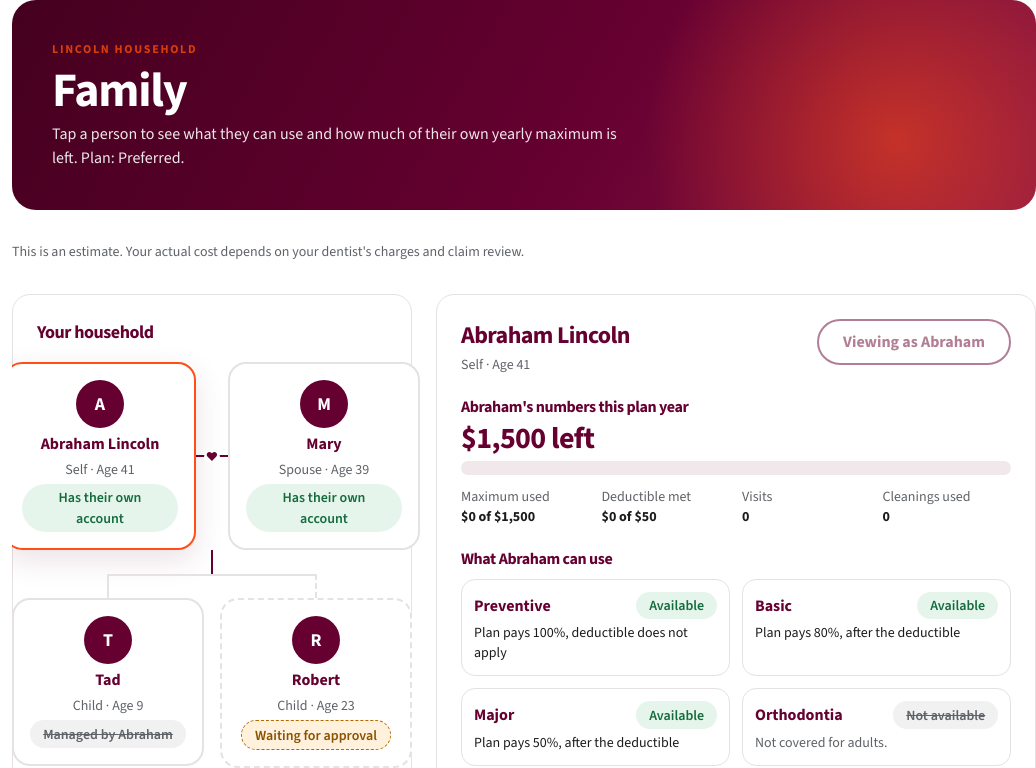
Test: Family page › offers no invite for a child profile or someone who already has a login
Click the button with test id "node-m-maya".
click(108, 682)  # box [12, 598, 204, 766]
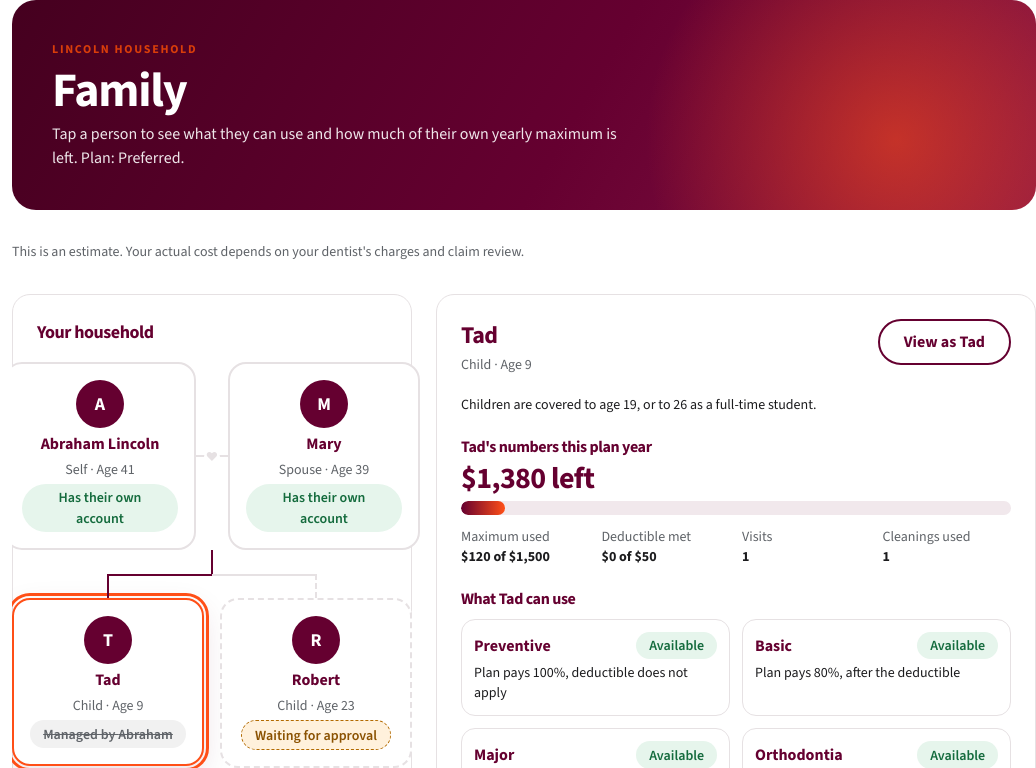
Expected: the text "$1,380 left" is shown, [461, 458, 594, 498]
Click the button with test id "node-m-alex".
click(324, 456)  # box [228, 362, 420, 550]
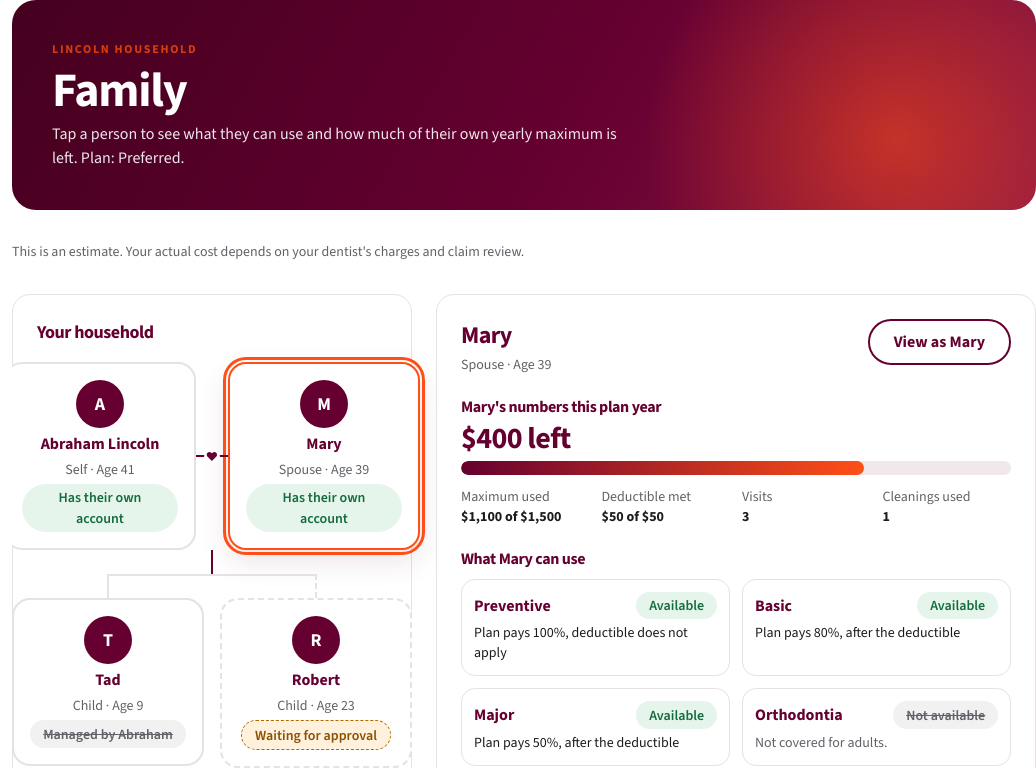
Expected: the text with test id "max-left" reads "$400 left", [461, 418, 571, 458]
